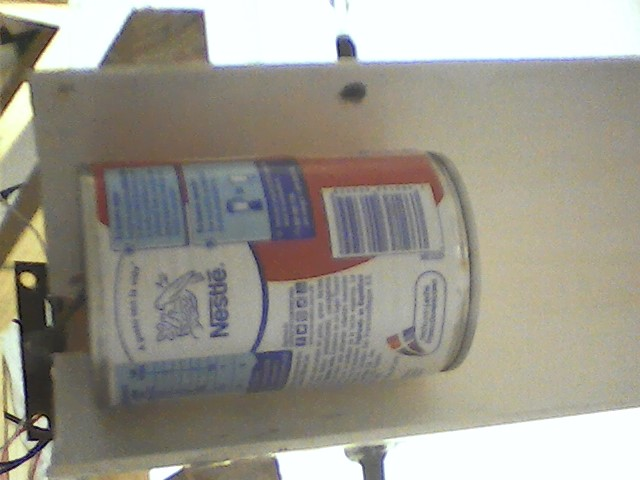lata: (70, 148, 489, 419)
